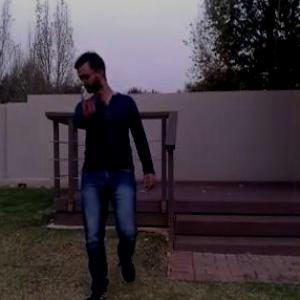takeoff-hand: (72, 83, 101, 123)
